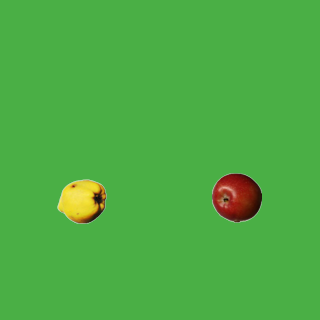Apple Braeburn: (211, 172, 261, 222)
Quince: (56, 176, 106, 226)
